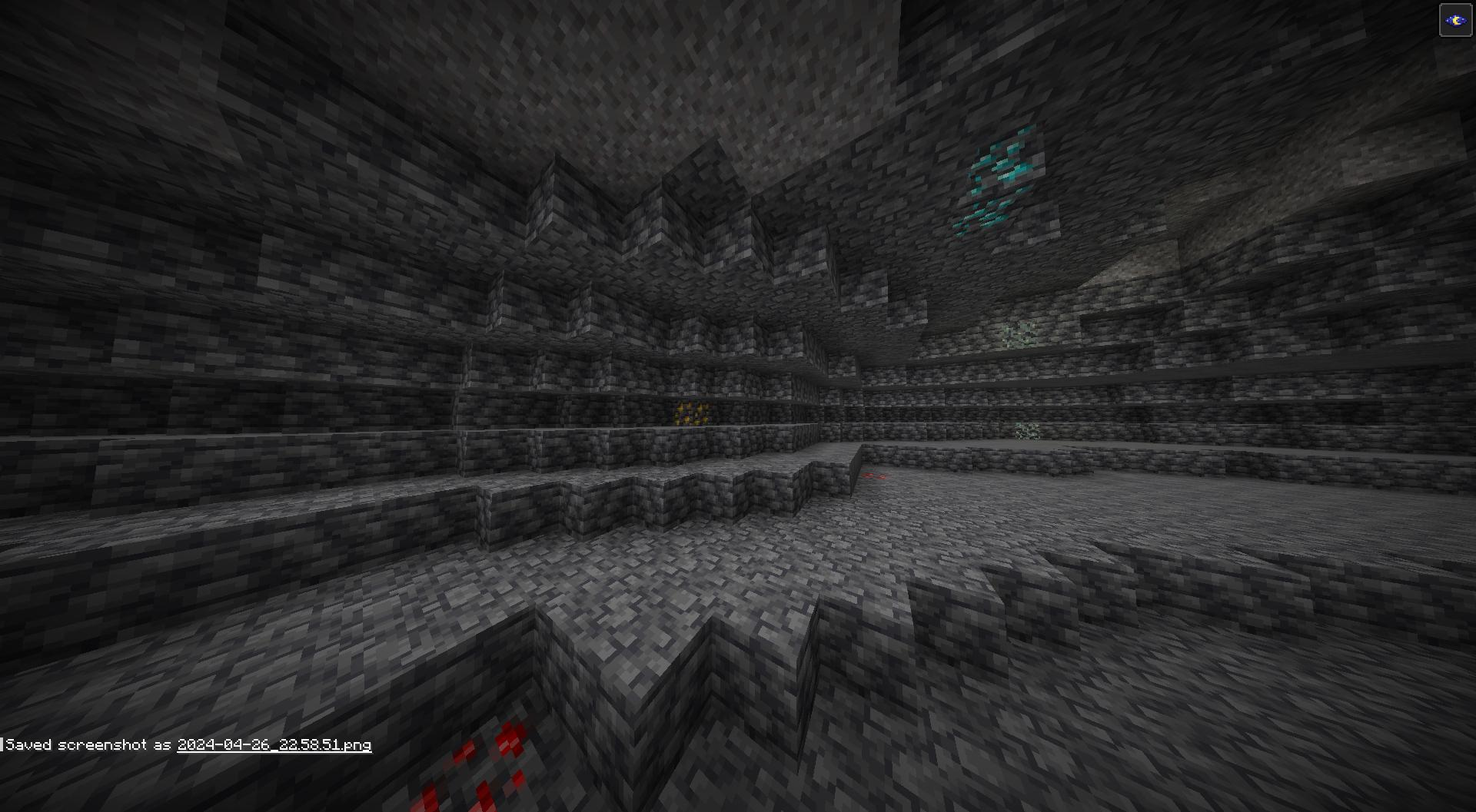diamond ore: (947, 126, 1042, 239)
gold ore: (674, 396, 713, 425)
redstone ore: (402, 713, 533, 812), (857, 468, 893, 486)
